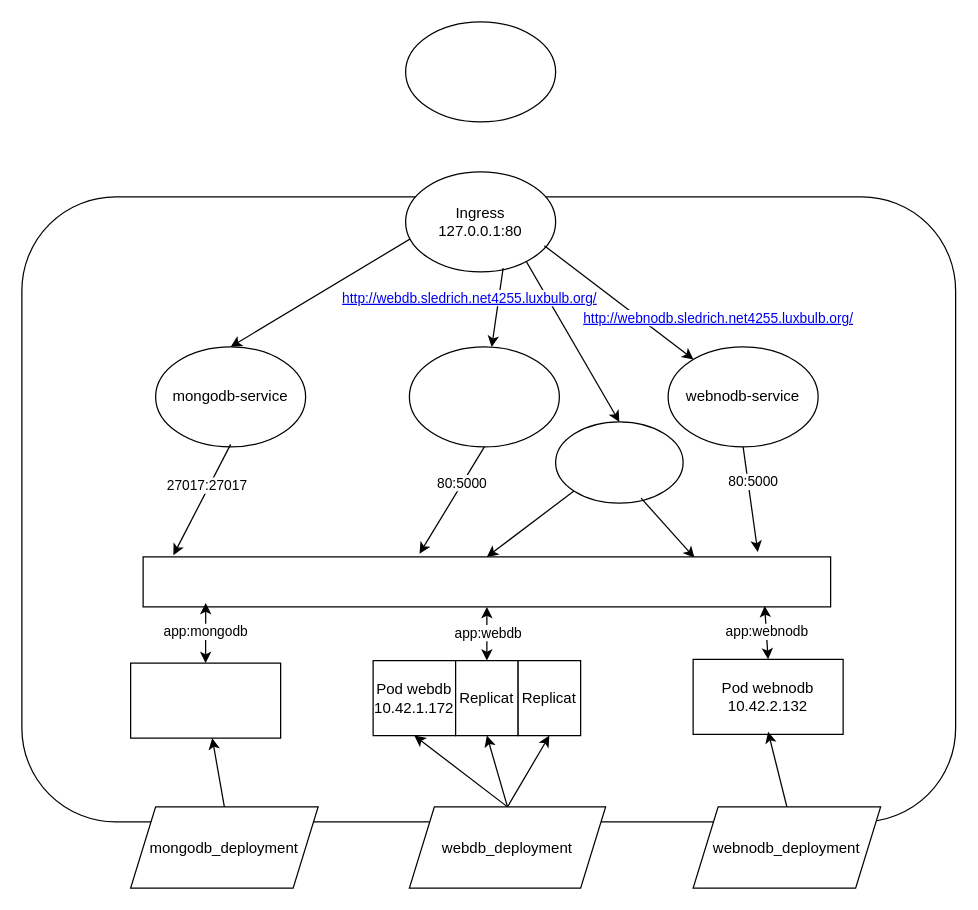
This 978x910 diagram has some shape labels left out. The box of each missing label's shape, as (x1, y1, x2, y2) in pixels:
ClusterIp DNS: (554, 421, 683, 503)
PC hote: (404, 21, 556, 122)
Pod MongoDB 10.42.1.173: (129, 662, 281, 738)
Réseau des pods: (142, 556, 831, 607)
webdb-service: (408, 346, 559, 447)
